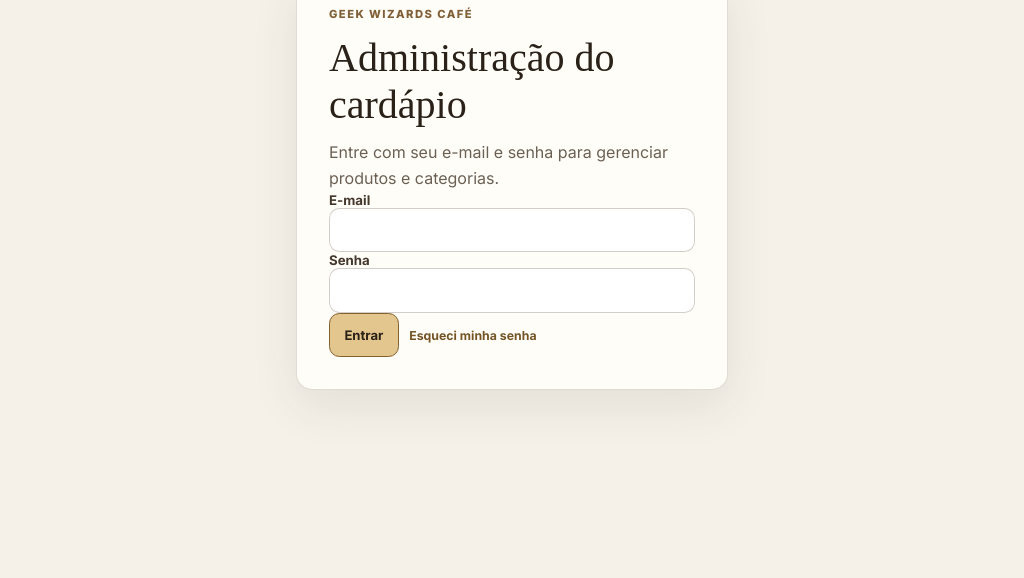
it: AdminCatalog › recusa preço inválido antes de enviar o formulário
Type "owner@example.com" into the field labelled "E-mail".
click(512, 230); type("owner@example.com")  # box x1=329 y1=208 x2=695 y2=252
Type "senha-de-teste" into the password field labelled "Senha".
click(512, 291); type("senha-de-teste")  # box x1=329 y1=268 x2=695 y2=313
Click the button "Entrar".
click(364, 335)  # box x1=329 y1=313 x2=399 y2=357
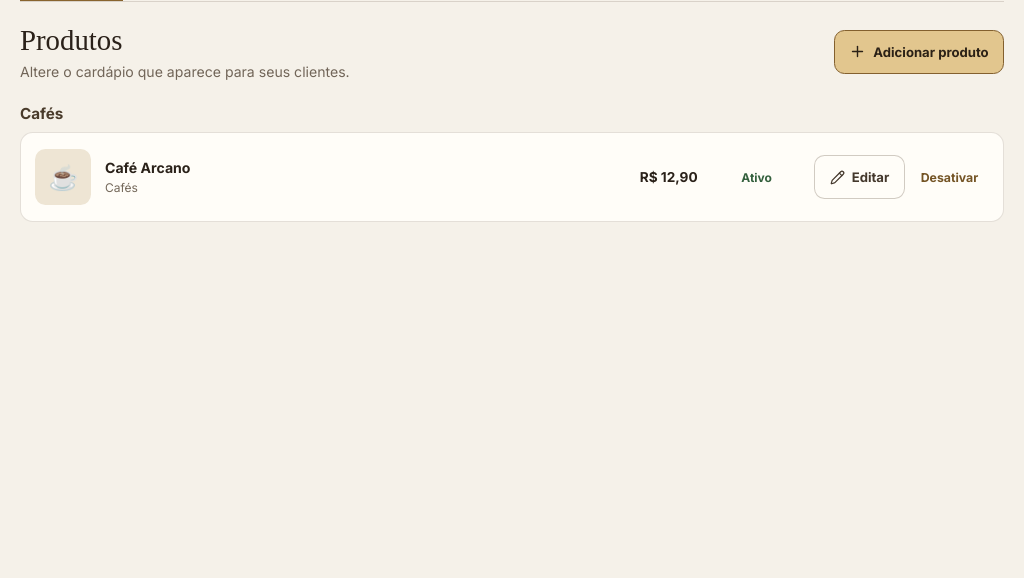
Result: the heading "Produtos" is shown at x1=20 y1=24 x2=122 y2=56
Click the button "Adicionar produto".
click(919, 52)  # box x1=834 y1=30 x2=1004 y2=74
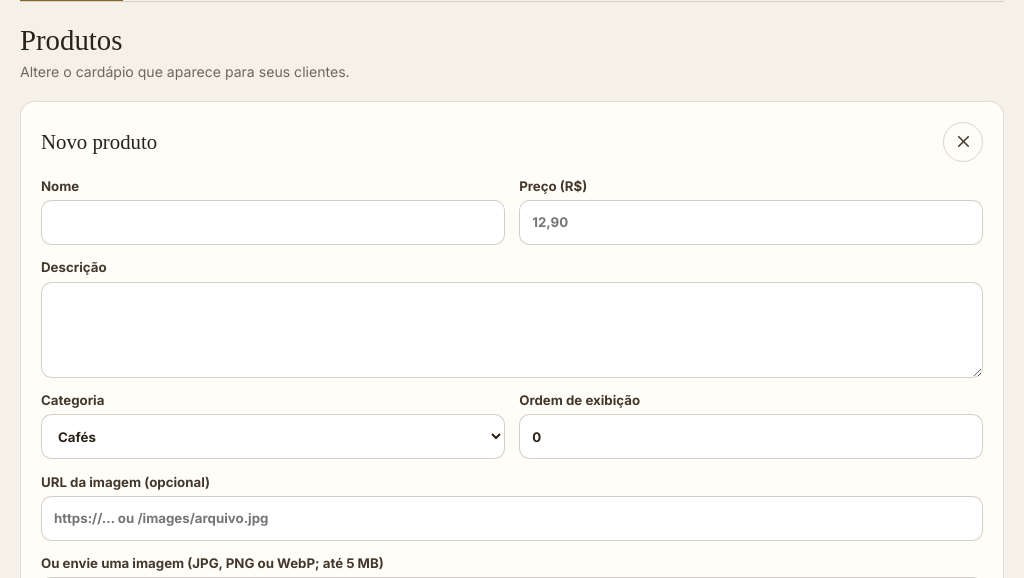
Type "Novo café" into the field labelled "Nome".
click(273, 222); type("Novo café")  # box x1=41 y1=200 x2=505 y2=245
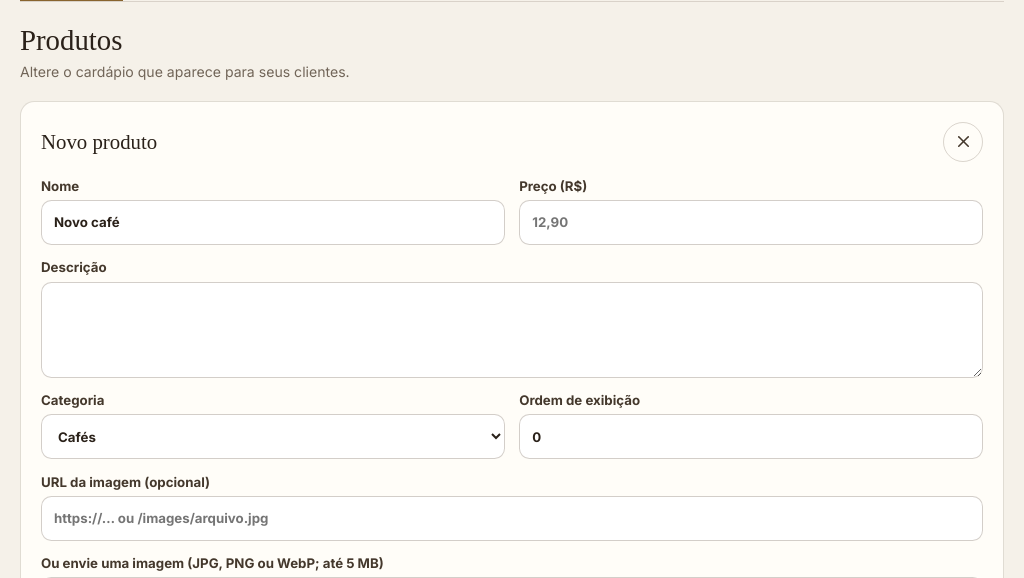
Type "12,345" into the field labelled "Preço (R$)".
click(751, 222); type("12,345")  # box x1=519 y1=200 x2=983 y2=245
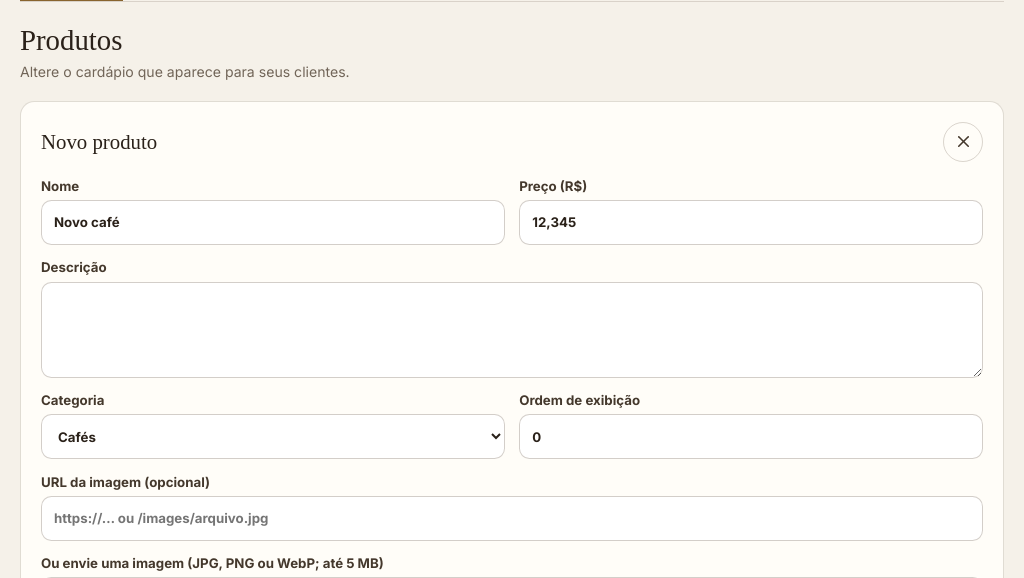
Type "Descrição do café." into the text box labelled "Descrição".
click(512, 330); type("Descrição do café.")  # box x1=41 y1=282 x2=983 y2=378
(page scrolled)
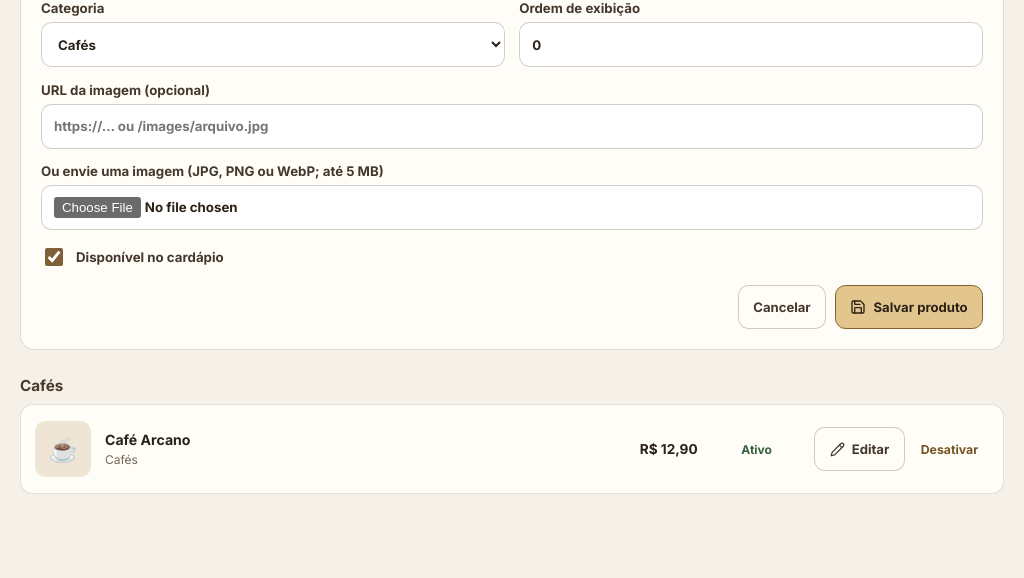
Click the button "Salvar produto".
click(909, 307)  # box x1=835 y1=285 x2=983 y2=329
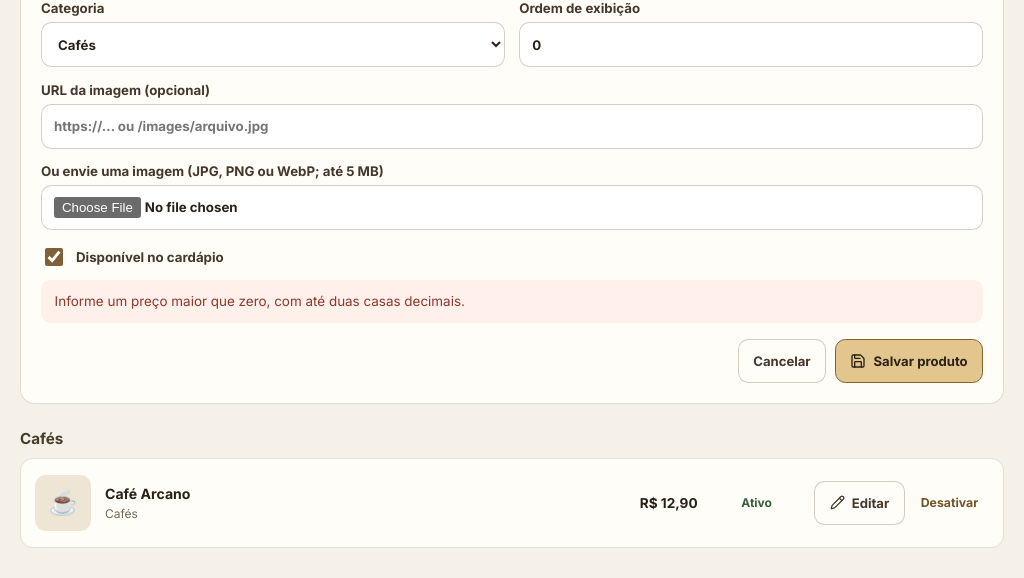
Result: the message shows "até duas casas decimais" at x1=55 y1=293 x2=465 y2=309
